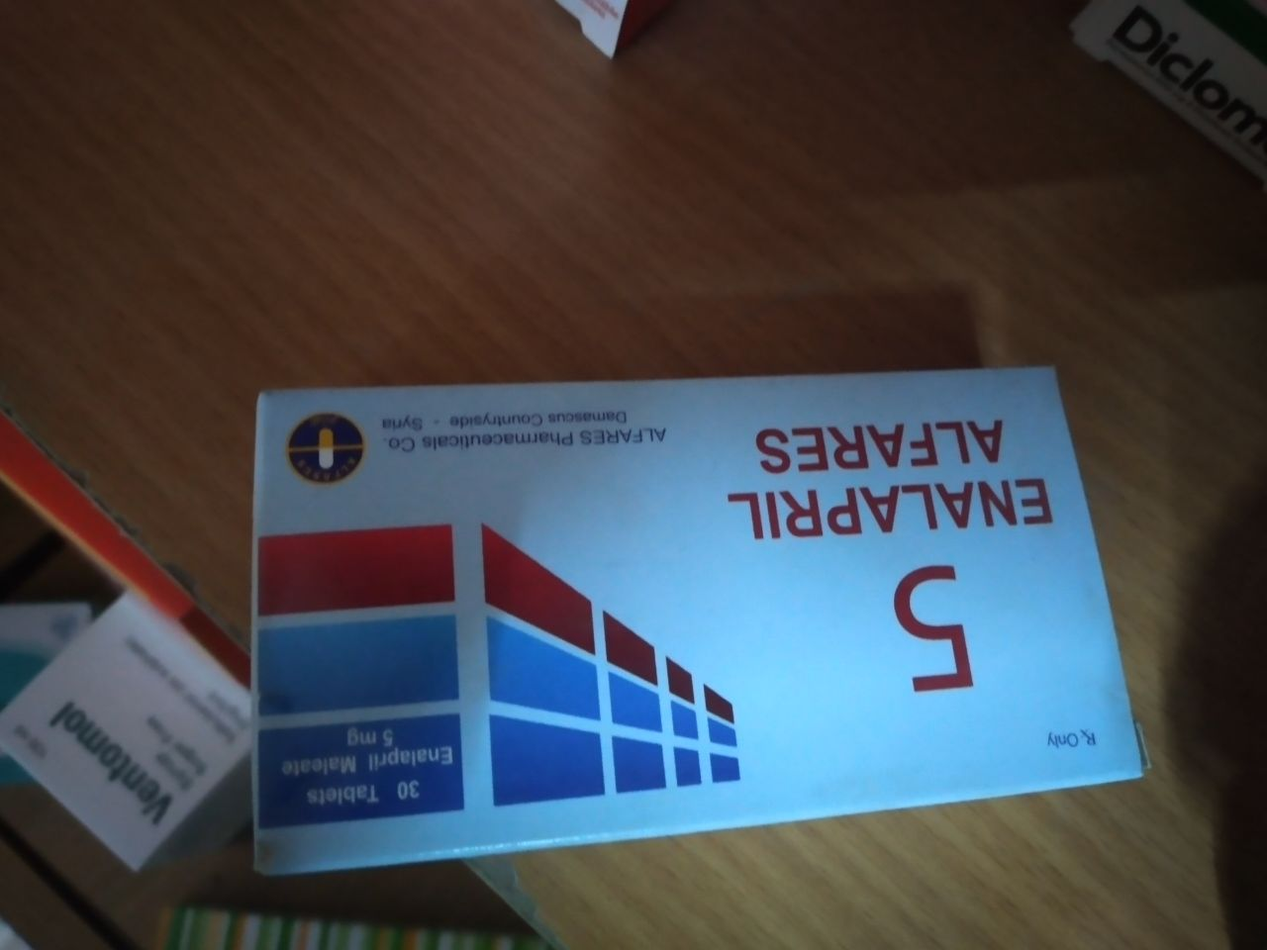Medicine: (223, 374, 1153, 863), (0, 351, 252, 903)
